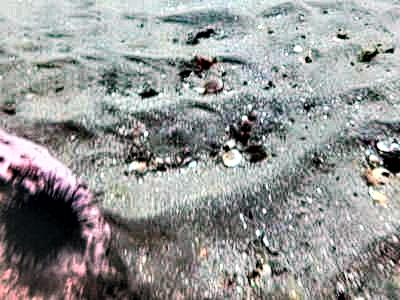urchin: (3, 169, 88, 276)
